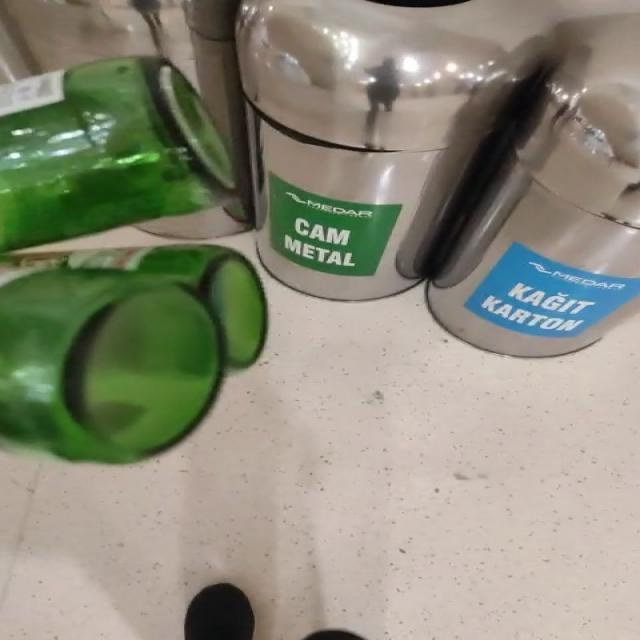Bin: (239, 0, 640, 357)
Glass: (3, 246, 267, 464), (1, 57, 235, 250)
